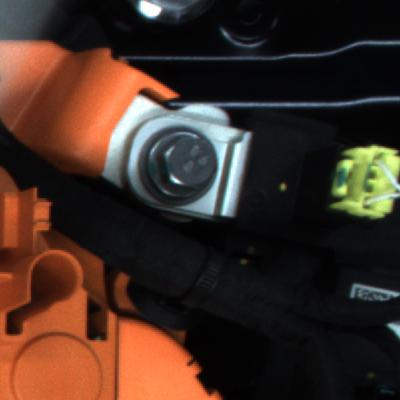nut_b: (130, 119, 228, 210)
